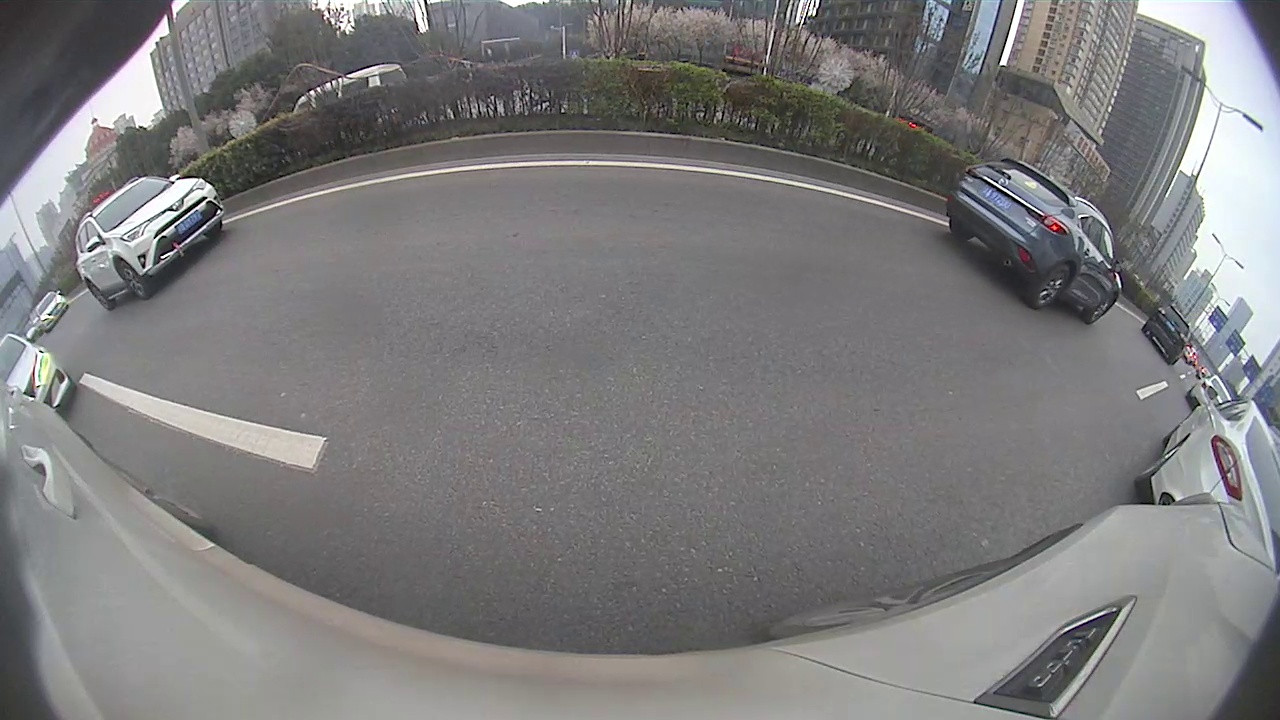bus: (702, 143, 758, 181)
car: (1, 249, 287, 504), (743, 139, 865, 220), (634, 163, 655, 179), (571, 165, 591, 181)
front: (147, 304, 266, 427), (744, 181, 755, 200)
rear: (781, 182, 797, 214)
